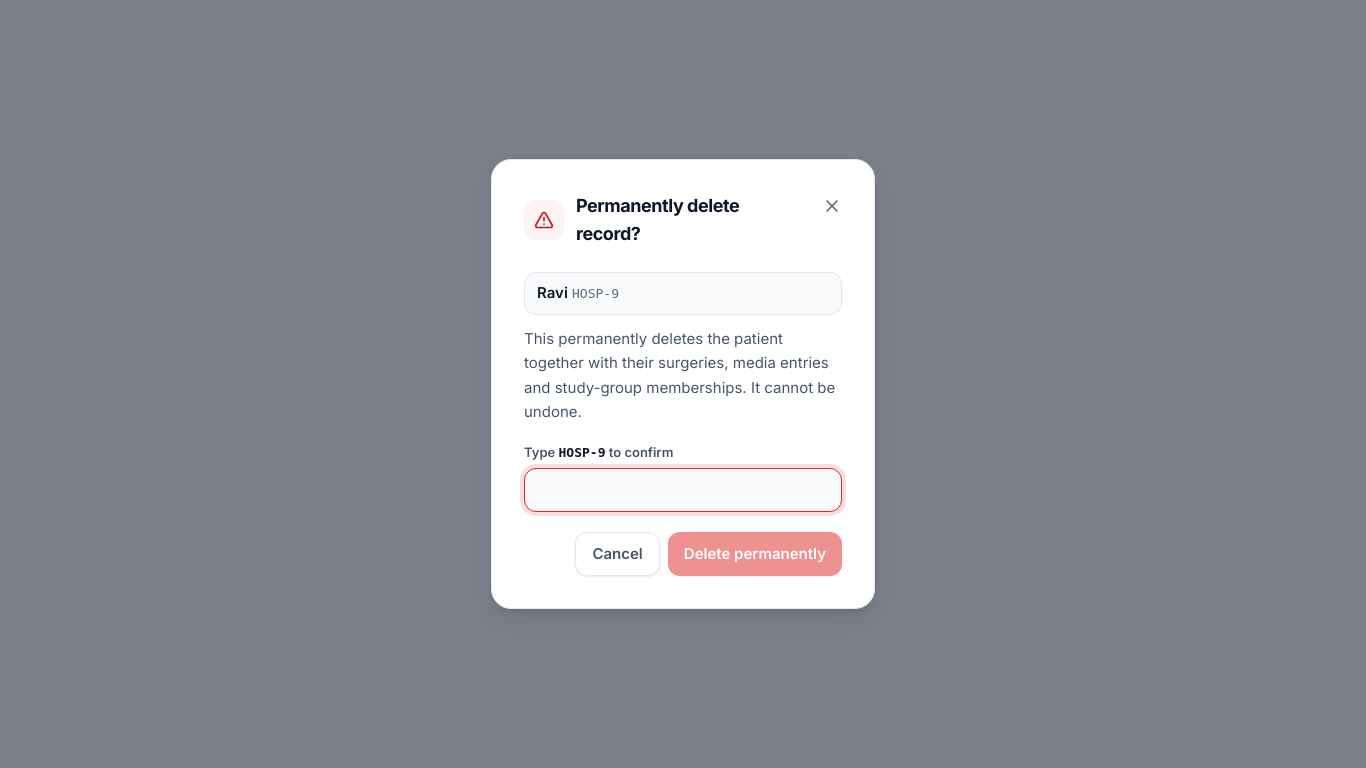
ConfirmActionModal › requires typing the UHID before permanent deletion
The image size is (1366, 768).
Later steps or results of the test are not shown.
expect the button "Delete permanently" is disabled: met, box [668, 532, 842, 576]
Type "HOSP-" into the field at (683, 490), box [524, 468, 842, 512]
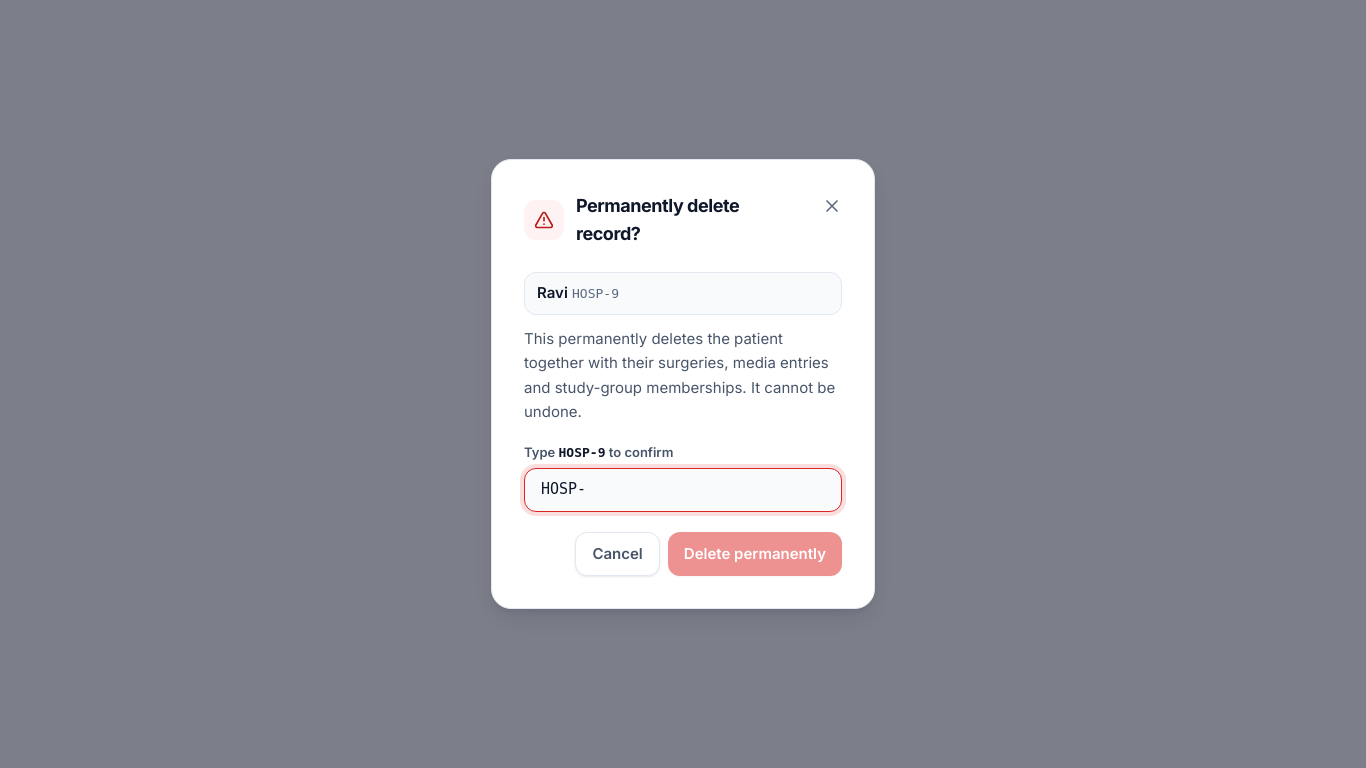
expect the button "Delete permanently" is disabled: met, box [668, 532, 842, 576]
Type "9" into the field at (683, 490), box [524, 468, 842, 512]
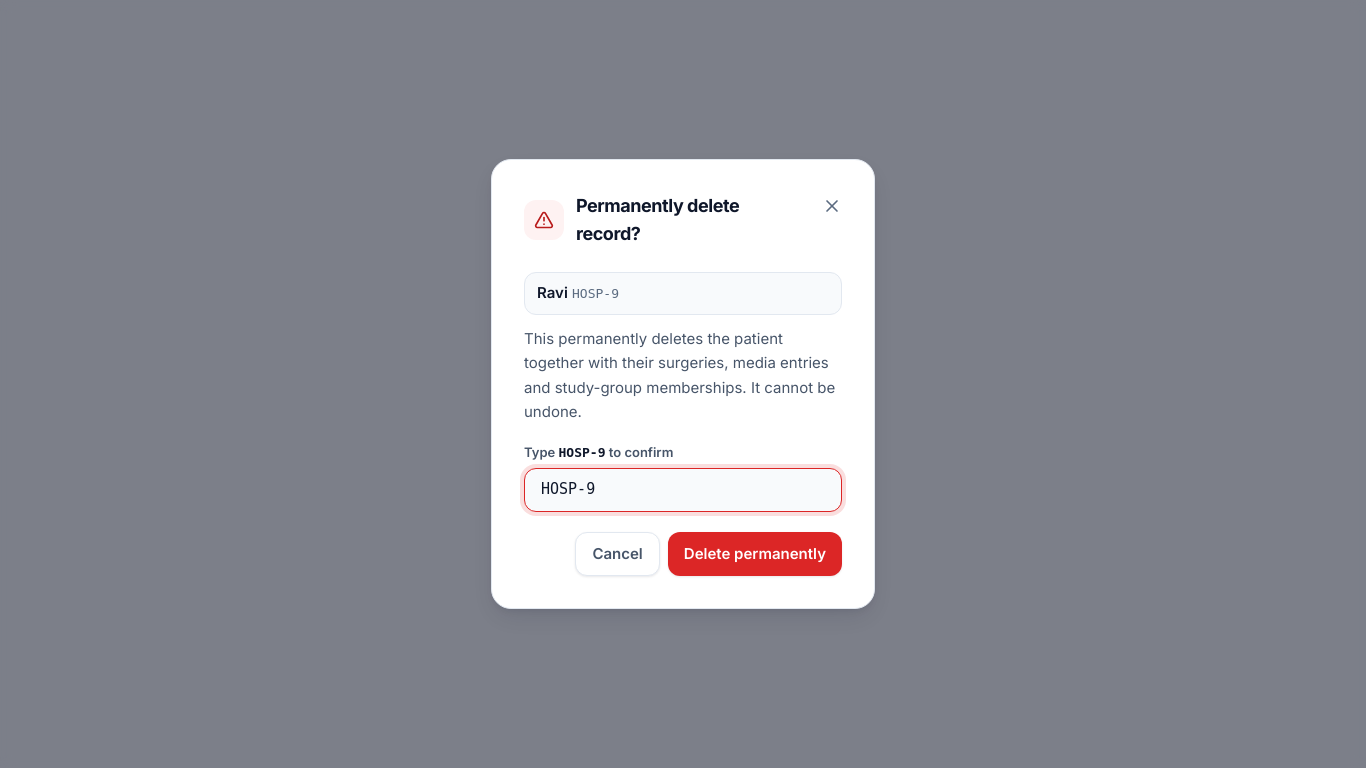
expect the button "Delete permanently" is enabled: met, box [668, 532, 842, 576]
